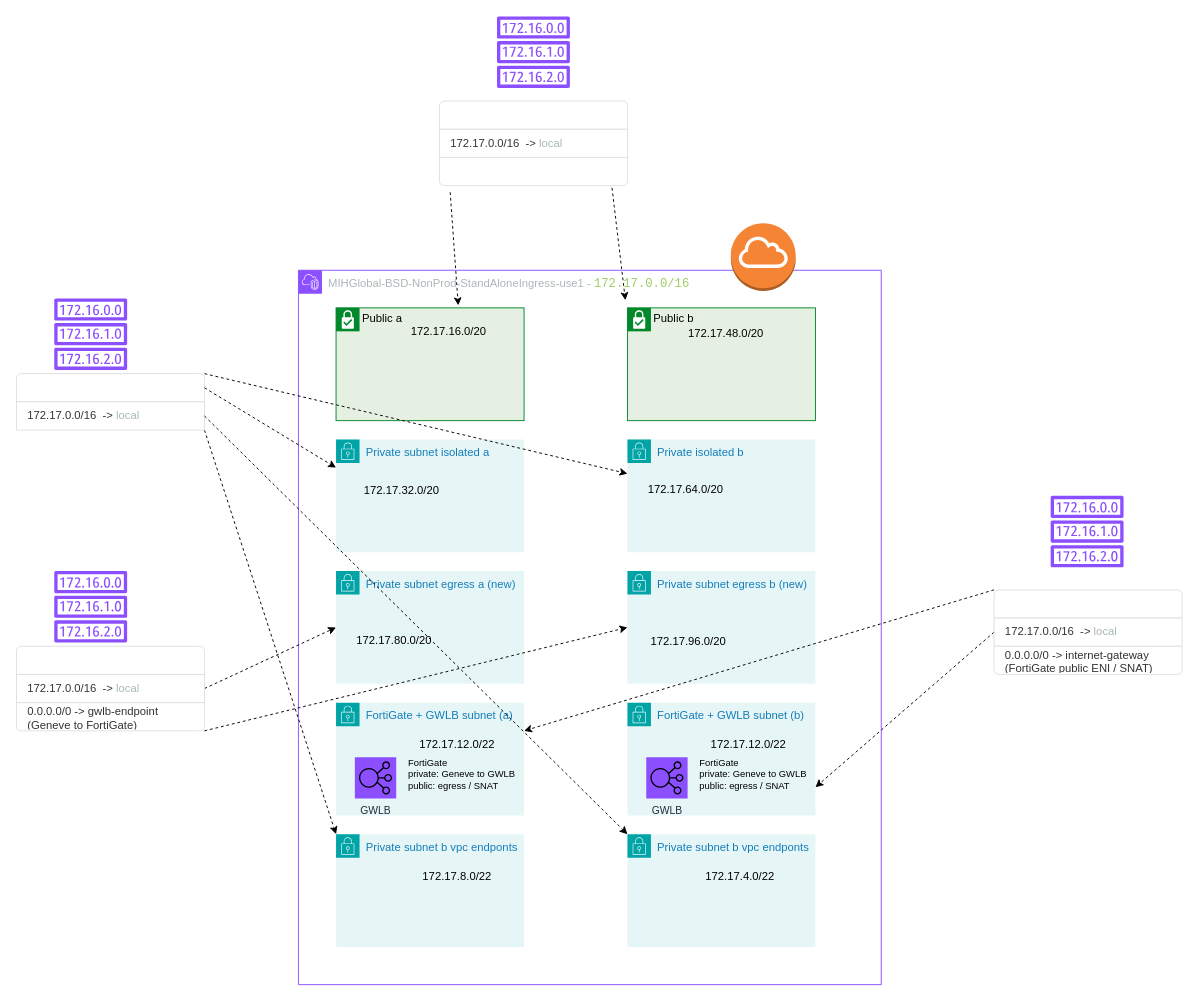
This 1199x1001 diagram has some shape labels left out. The shapes that lost their labels are listed below. From the top down, each one's centre as x and y in pixels, then its label:
At point (533, 114): "public-route-table".
At point (533, 171): "0.0.0.0/0 -> internet-gateway".
At point (110, 387): "private-route table".
At point (1087, 603): "fortigate-egress-route-table".
At point (110, 659): "private-egress-route table".
